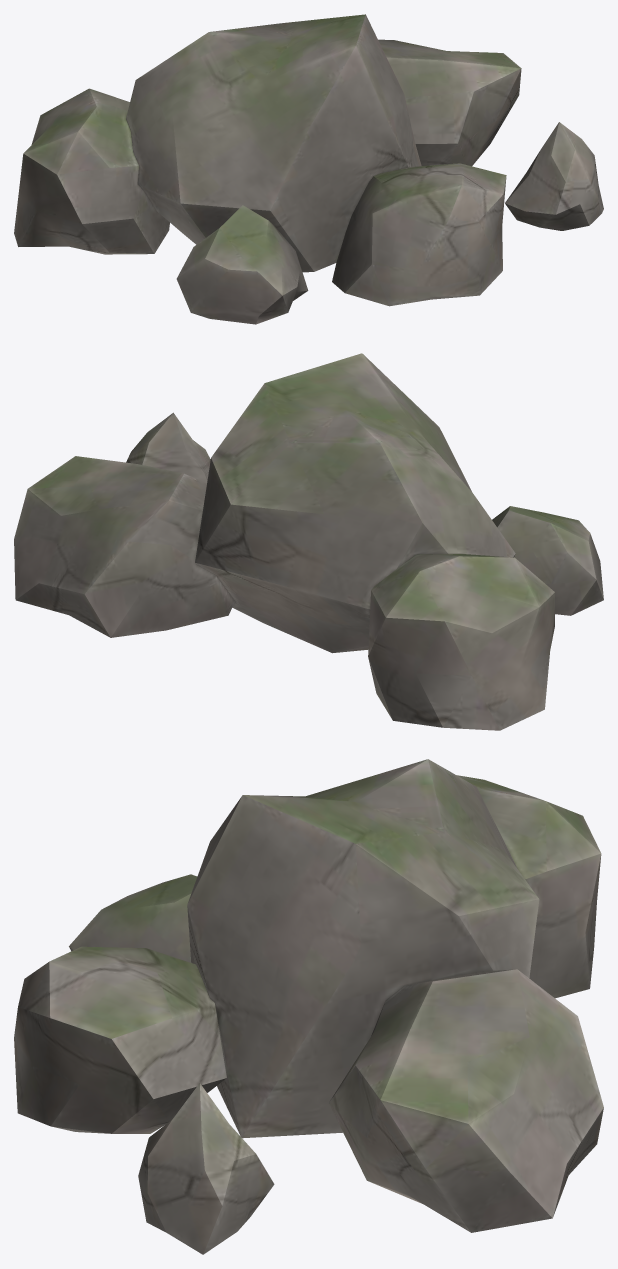
Rendered from rock_cluster.glb.
3 views of the same model, one above another, from view 1: azimuth 30°, elevation 25°; view 2: azimuth 150°, elevation 25°; view 3: azimuth 270°, elevation 25° (orthographic). The views are drawn at different scales.
Visible parts, largest first — view 1: RockCluster; view 2: RockCluster; view 3: RockCluster.
Boxes of the visible parts, left/top/right/bottom form: RockCluster: left=14, top=14, right=603, bottom=324; RockCluster: left=14, top=353, right=603, bottom=730; RockCluster: left=14, top=759, right=603, bottom=1254.
Bounding box in the file's own units: 3.1 × 1.28 × 2.3.
Materials: 1 (1 with a texture image).
